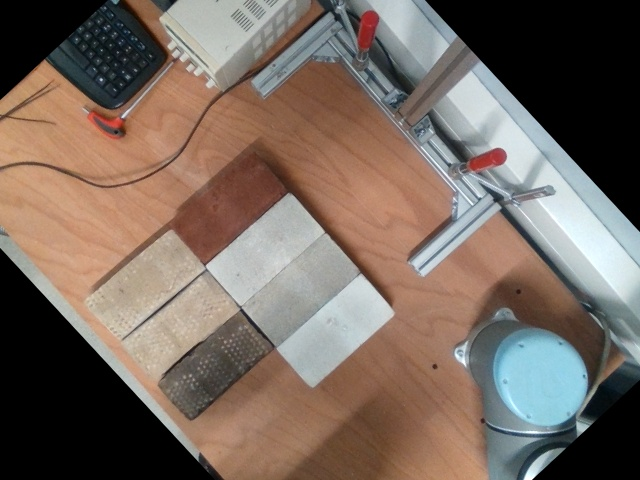brick: (206, 194, 323, 304), (278, 276, 394, 385), (242, 235, 358, 344), (89, 230, 202, 336), (125, 272, 235, 377), (173, 154, 284, 258), (161, 315, 268, 415)
